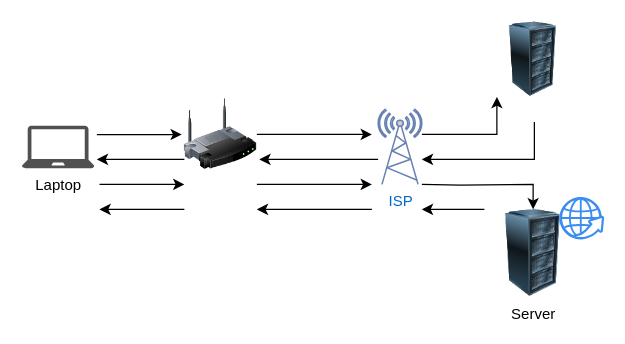
Image size: 625x344. Some labels were removed from this diagram. The shapes that lost their labels are listed below. From the top down, each one's centre as x and y in pixels, then its label:
point (532, 58): DNS
point (220, 133): Router
